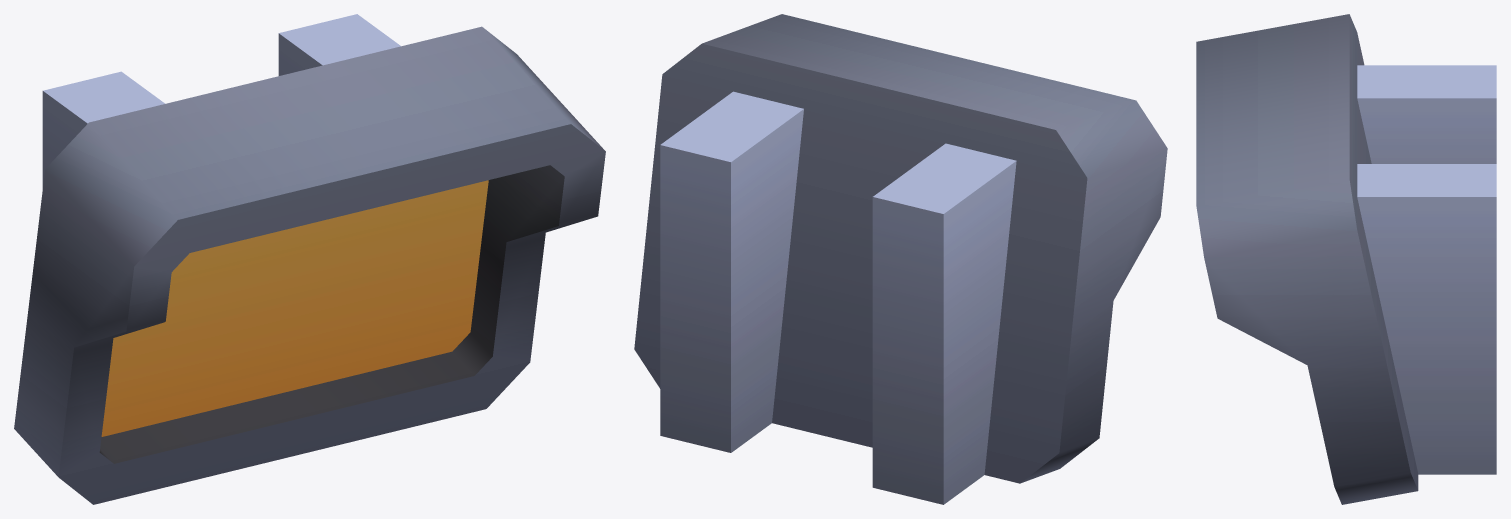
Rendered from display-wall-wide.glb.
The picture shows the model from 3 angles, left to right: view 1: azimuth 30°, elevation 25°; view 2: azimuth 150°, elevation 25°; view 3: azimuth 270°, elevation 25°; orthographic projection. The views are drawn at different scales.
Parts seen in each view (by area): view 1: display-wall-wide; view 2: display-wall-wide; view 3: display-wall-wide.
Boxes of the visible parts, x1,y1,x2,y2 form: display-wall-wide: [14, 14, 605, 504]; display-wall-wide: [634, 14, 1167, 504]; display-wall-wide: [1196, 14, 1496, 504].
Size of the model in its own units: 0.6 by 0.4609 by 0.3844.
Materials: 1 (1 with a texture image).
